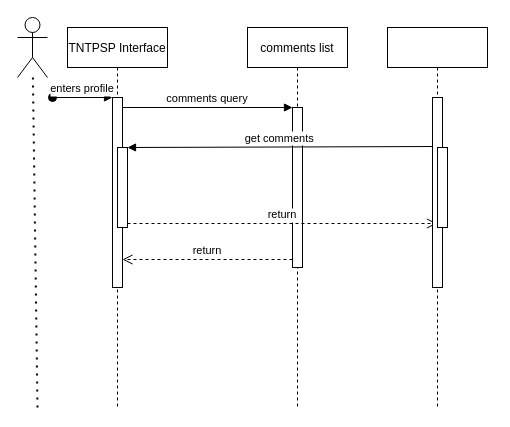
Image size: 510x427. Some labels were removed from this diagram. The centre of each missing label's shape, as x and y in pixels:
"User" goes at (x=32, y=47).
"UserProfile Interface" goes at (x=437, y=217).
